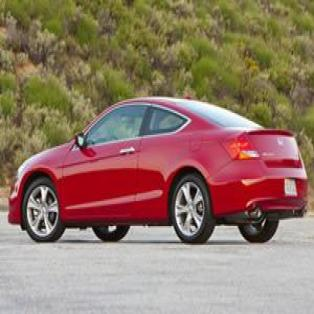Auto: (7, 94, 308, 244)
